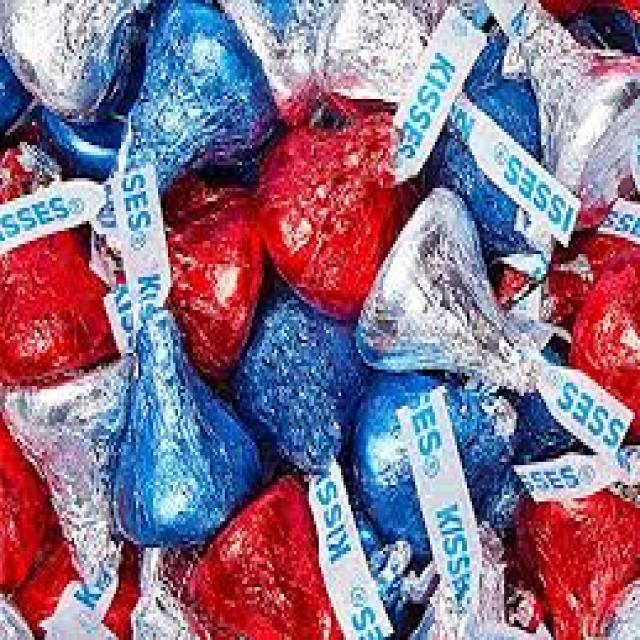kisses: (1, 354, 151, 606), (358, 200, 550, 376), (509, 12, 640, 210), (323, 0, 454, 124)
